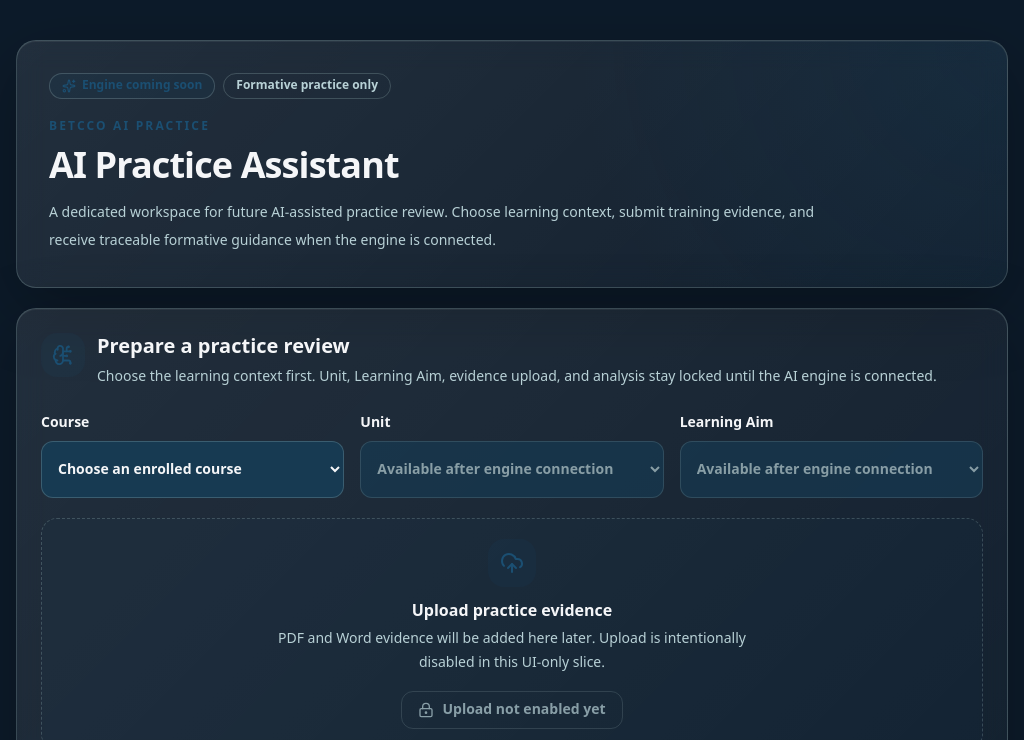
Test: AI Practice UI shell › renders a non-operational formative workspace with real enrolled courses
The width and height of the screenshot is (1024, 740).
Check: the heading "AI Practice Assistant" is shown, box [49,129,399,205]
Select "Information Technology" in the dropdown labelled "Course" at (193,470), box [41,441,344,498]
(page scrolled)
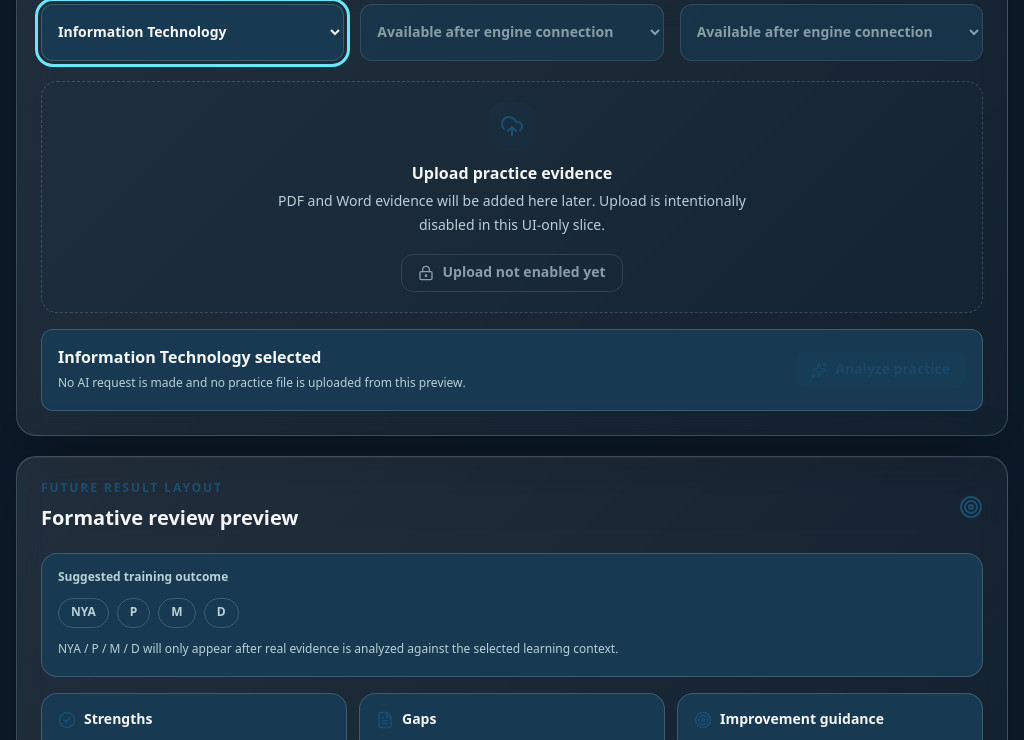
Check: the button "Upload not enabled yet" is disabled, box [402,254,623,292]
Check: the text "Information Technology selected" is shown, box [58,341,321,375]
